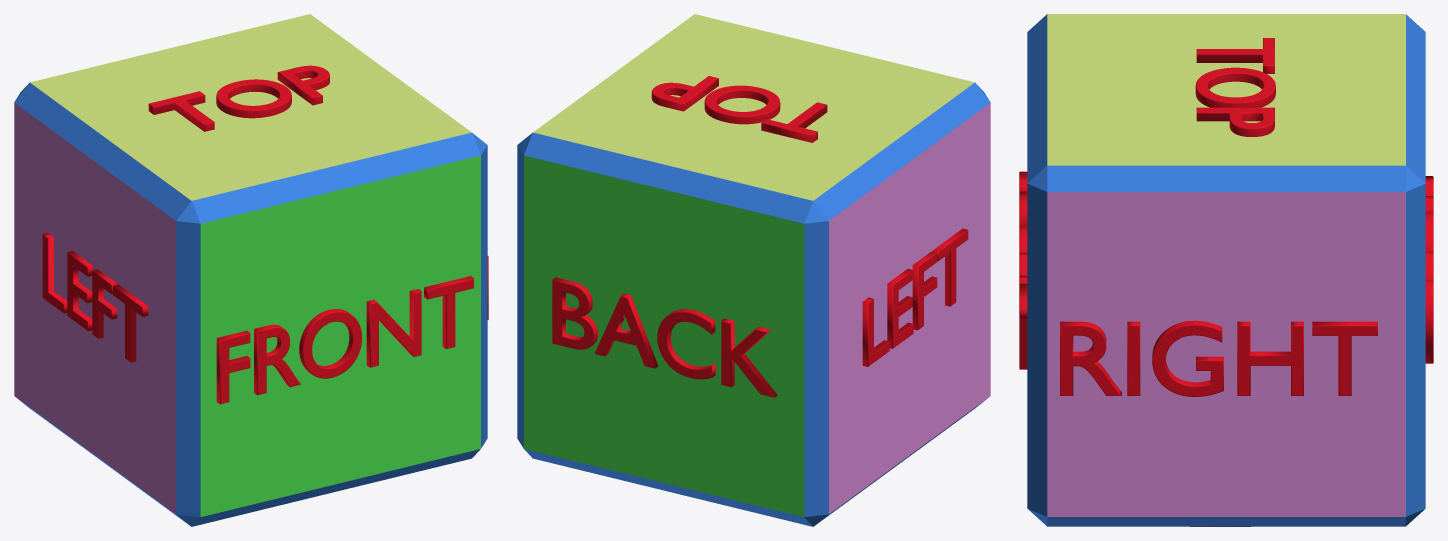
Rendered from cubeC.glb.
3 views of the same model, side by side, from view 1: azimuth 30°, elevation 25°; view 2: azimuth 150°, elevation 25°; view 3: azimuth 270°, elevation 25° (orthographic). The views are drawn at different scales.
Visible parts, largest first — view 1: Cube, Text.001, Text.004, Text; view 2: Cube, Text.002, Text.004, Text; view 3: Cube, Text.005, Text, Text.001, Text.002.
Part boxes in pixels (x1=…): Cube: x1=14, y1=14, x2=487, y2=526; Text.001: x1=216, y1=276, x2=473, y2=404; Text.004: x1=42, y1=233, x2=148, y2=362; Text: x1=148, y1=65, x2=329, y2=131; Cube: x1=517, y1=14, x2=990, y2=526; Text.002: x1=552, y1=277, x2=777, y2=397; Text.004: x1=862, y1=228, x2=968, y2=366; Text: x1=651, y1=76, x2=827, y2=142; Cube: x1=1027, y1=14, x2=1425, y2=526; Text.005: x1=1060, y1=320, x2=1377, y2=396; Text: x1=1195, y1=38, x2=1275, y2=136; Text.001: x1=1019, y1=171, x2=1027, y2=369; Text.002: x1=1425, y1=176, x2=1433, y2=363.
Size of the model in its own units: 2.08 by 2.09 by 2.08.
